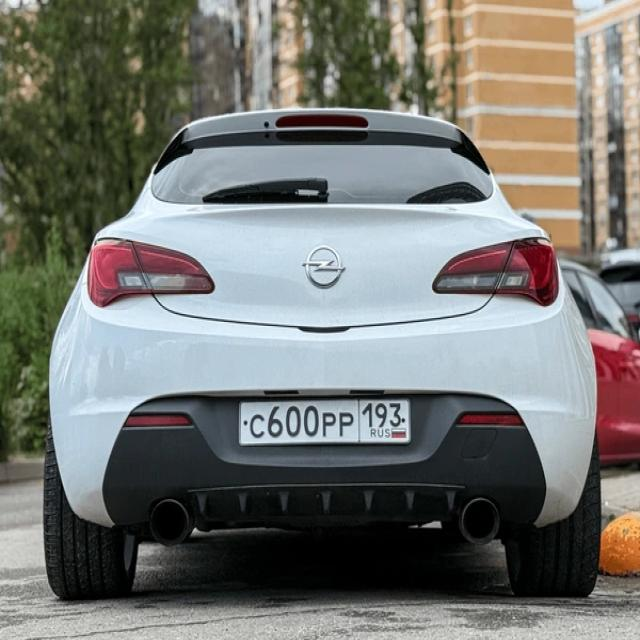opel: (299, 243, 352, 292)
